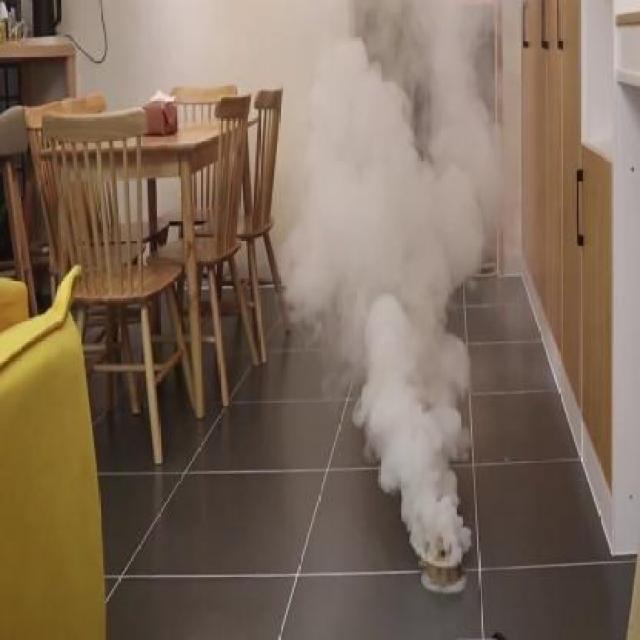smoke: (270, 12, 502, 586)
